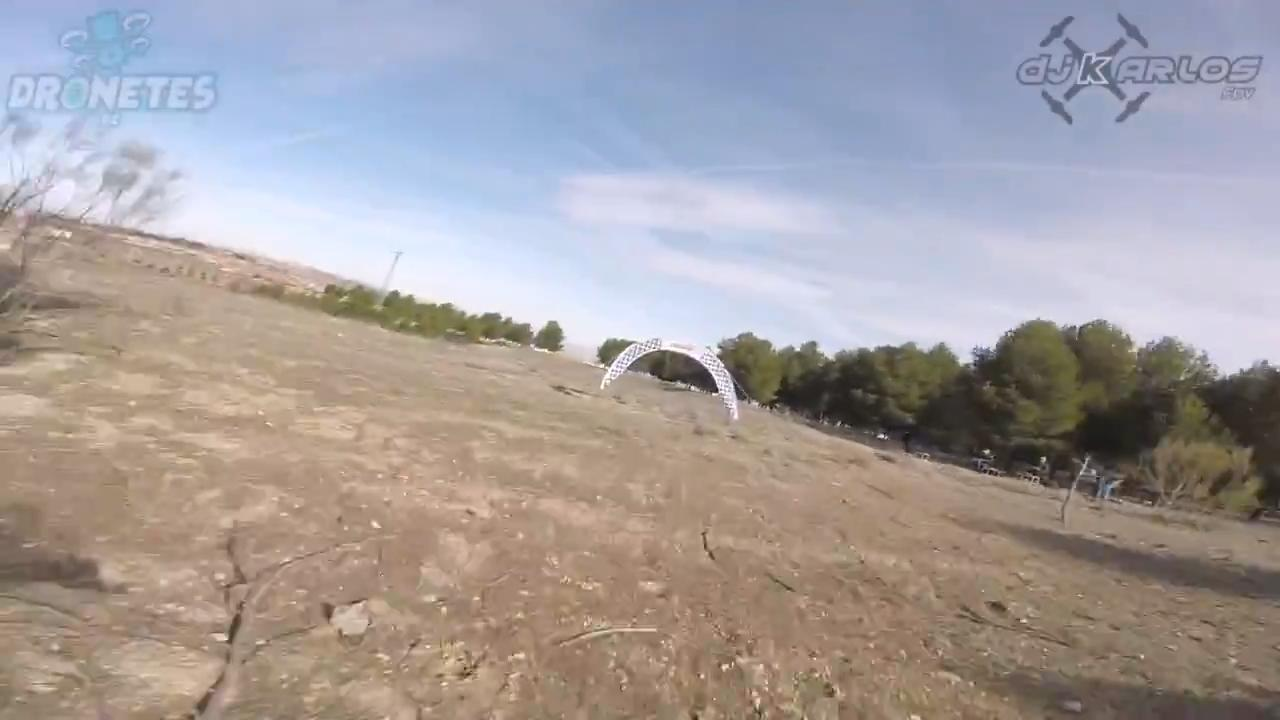gate: (603, 335, 741, 428)
